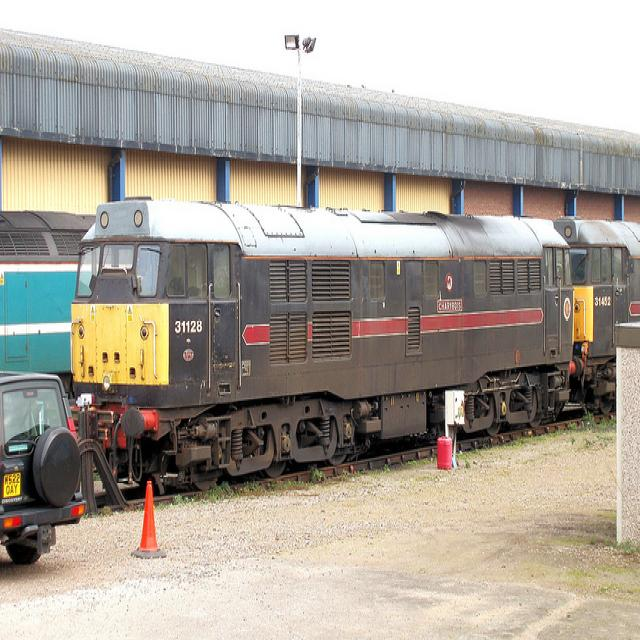Vehicle: (1, 365, 90, 571)
